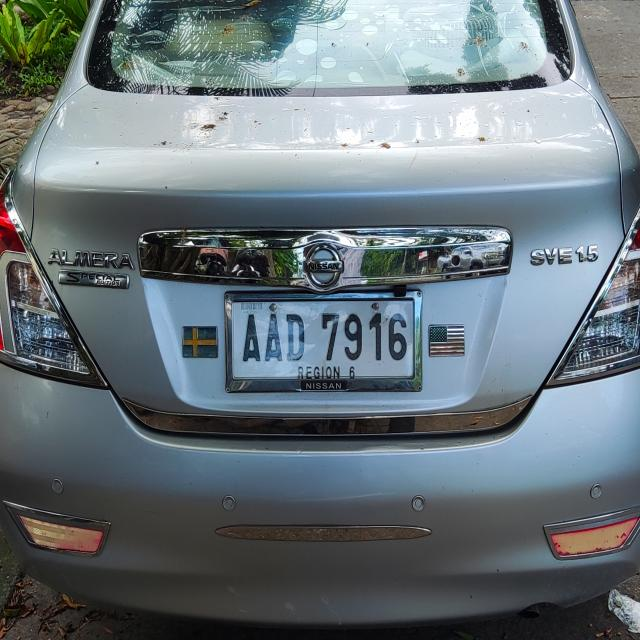plate: (224, 288, 423, 394)
